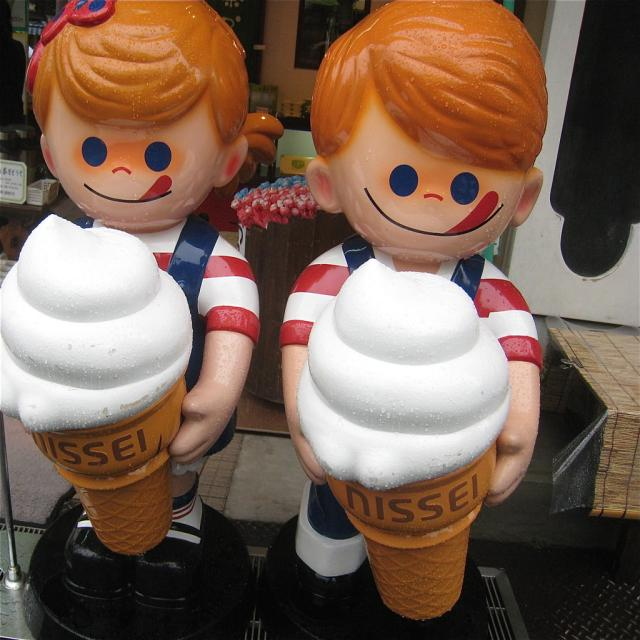Toy: (277, 0, 549, 640), (27, 0, 262, 609), (297, 255, 510, 624), (0, 211, 196, 560)
